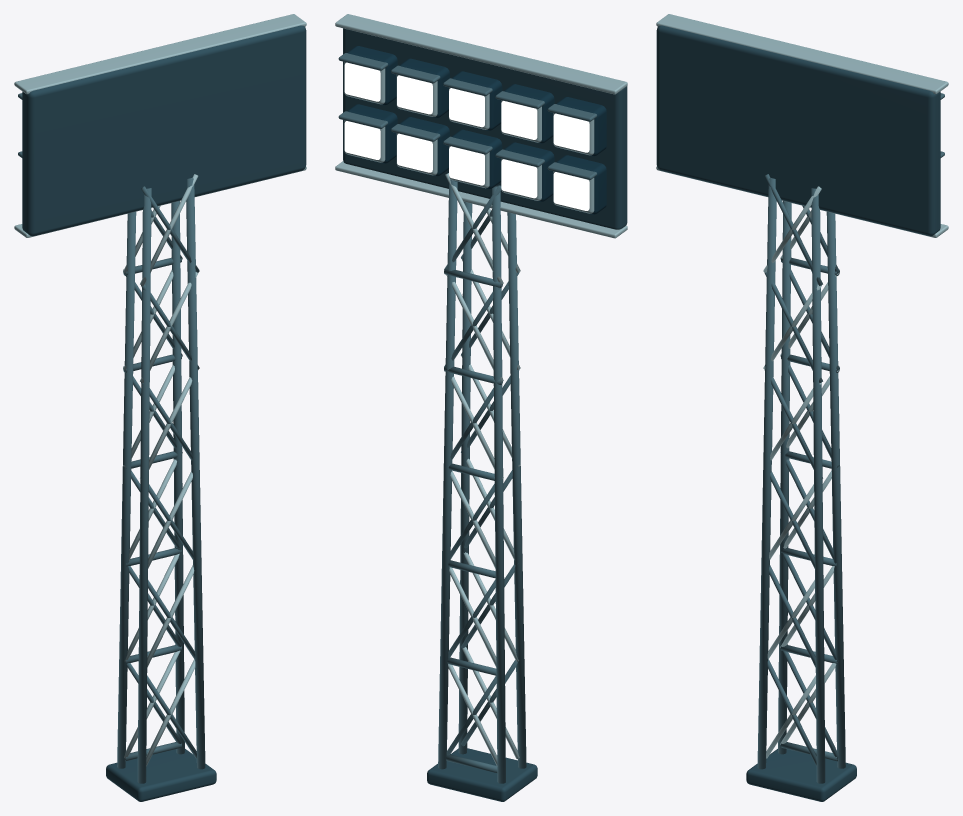
Rendered from lights.glb.
3 views of the same model, side by side, from view 1: azimuth 30°, elevation 25°; view 2: azimuth 150°, elevation 25°; view 3: azimuth 330°, elevation 25° (orthographic).
Visible parts, largest first — view 1: lights.Moving.metal; view 2: lights.Moving.metal, lights.Moving.lens; view 3: lights.Moving.metal.
Boxes of the visible parts, <box> form: lights.Moving.metal: <box>14,14,306,801</box>; lights.Moving.metal: <box>335,14,627,801</box>; lights.Moving.lens: <box>344,62,589,210</box>; lights.Moving.metal: <box>656,14,948,801</box>.
Size of the model in its own units: 12.1 by 30.05 by 2.64.
